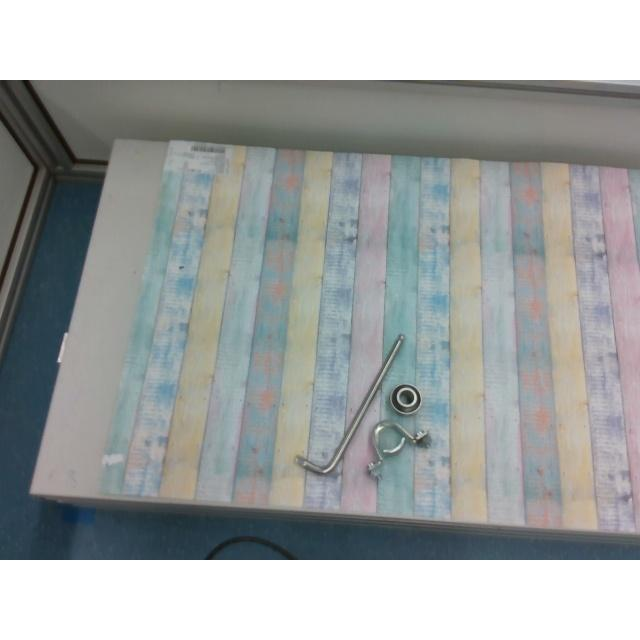AllenKey: (294, 334, 406, 474)
Bearing2: (390, 383, 420, 412)
Housing: (368, 420, 428, 472)
